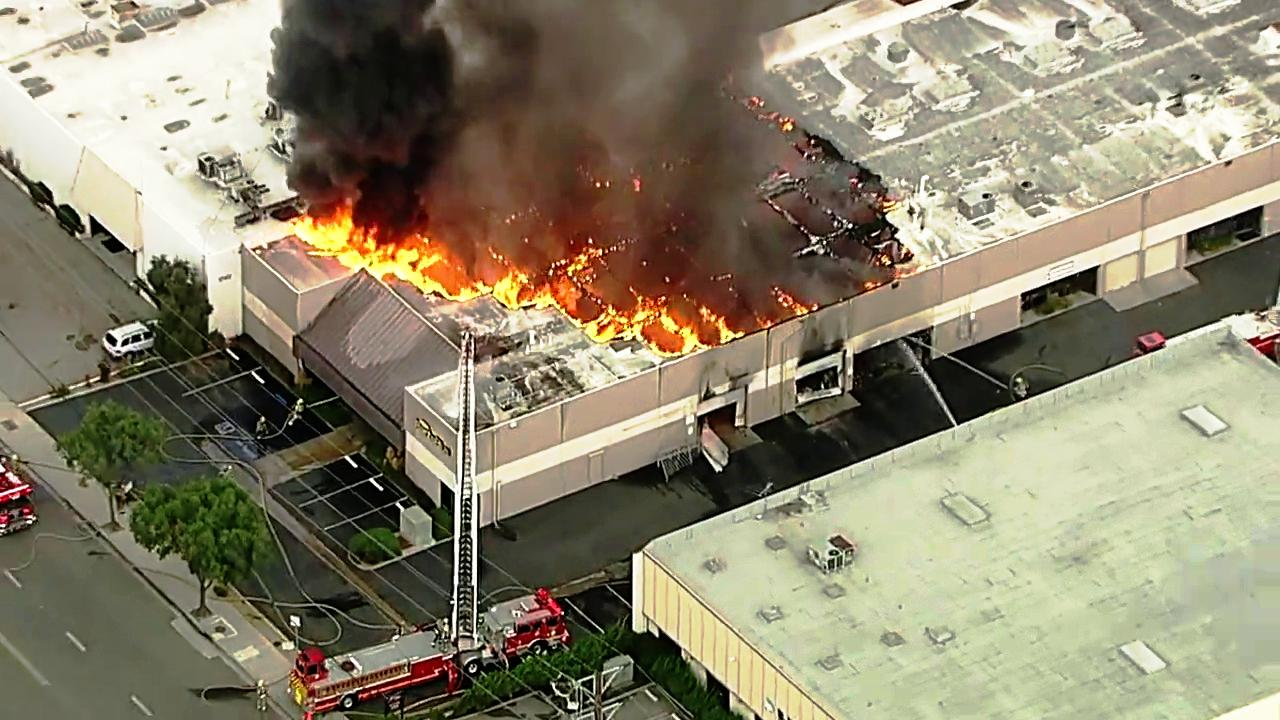fire: (299, 197, 439, 276), (587, 299, 679, 347), (477, 272, 549, 311)
smoke: (263, 0, 450, 179)
